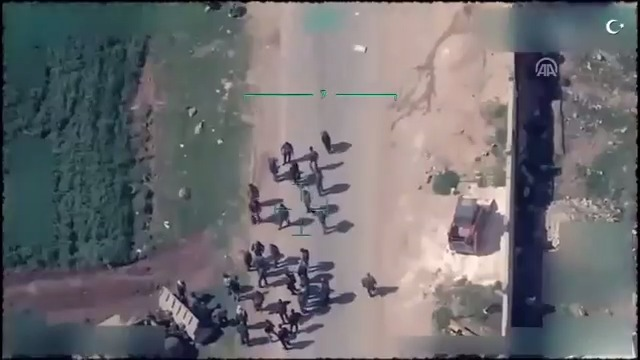arac: (444, 187, 499, 258)
insan: (356, 270, 382, 298), (276, 200, 295, 232), (285, 308, 306, 335), (248, 197, 266, 228), (306, 141, 323, 168), (278, 138, 296, 163), (236, 319, 253, 345)
